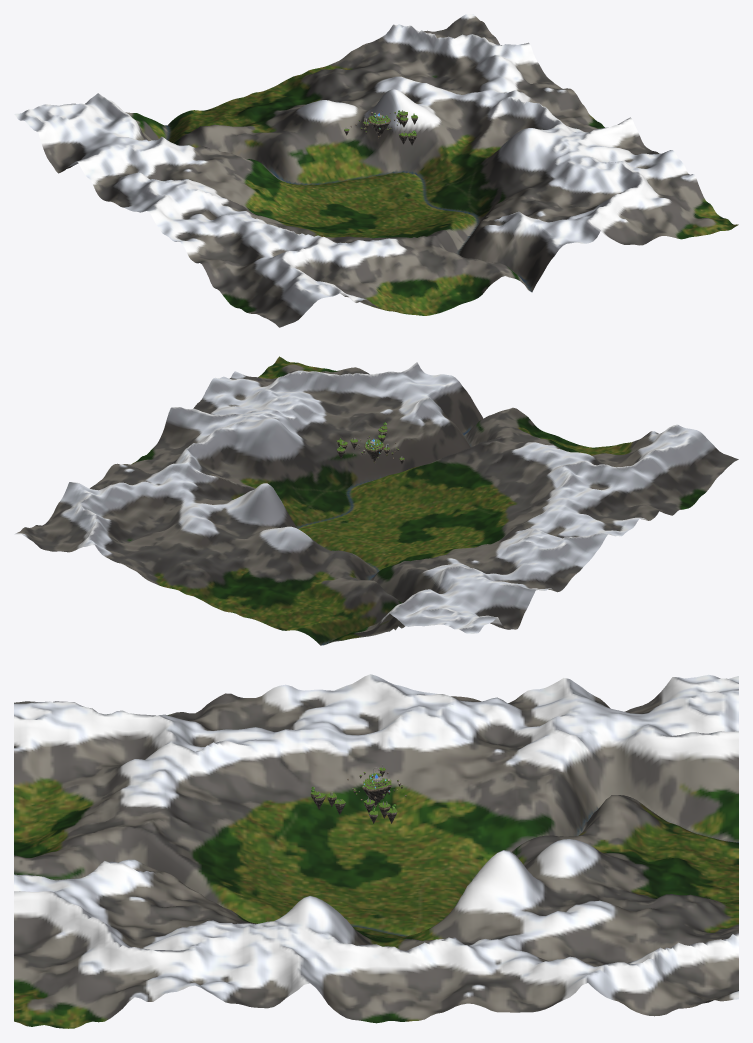
File: crystal_spire.glb
3 views of the same model, one above another, from view 1: azimuth 30°, elevation 25°; view 2: azimuth 150°, elevation 25°; view 3: azimuth 270°, elevation 25° (orthographic). The views are drawn at different scales.
Visible parts, largest first — view 1: Vista world below; view 2: Vista world below; view 3: Vista world below, Far islands.
Boxes of the visible parts, <box> form: Vista world below: <box>14,14,738,327</box>; Vista world below: <box>14,356,738,645</box>; Vista world below: <box>14,674,738,1028</box>; Far islands: <box>310,765,406,823</box>.
Size of the model in its own units: 440 by 84.23 by 440.
Materials: 37 (37 with a texture image).
